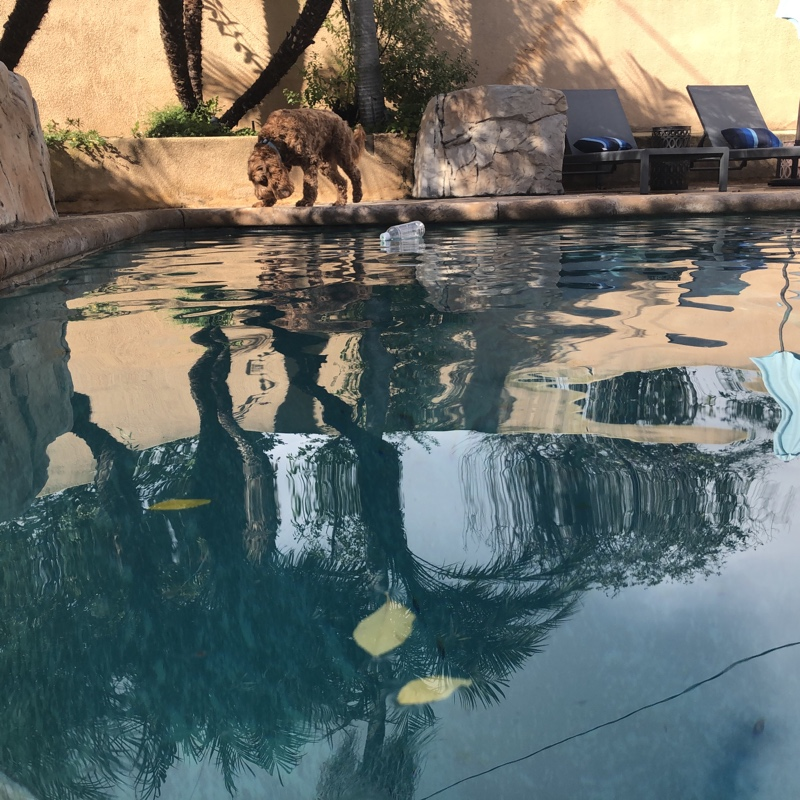Plastic Bottle: (380, 218, 424, 241)
